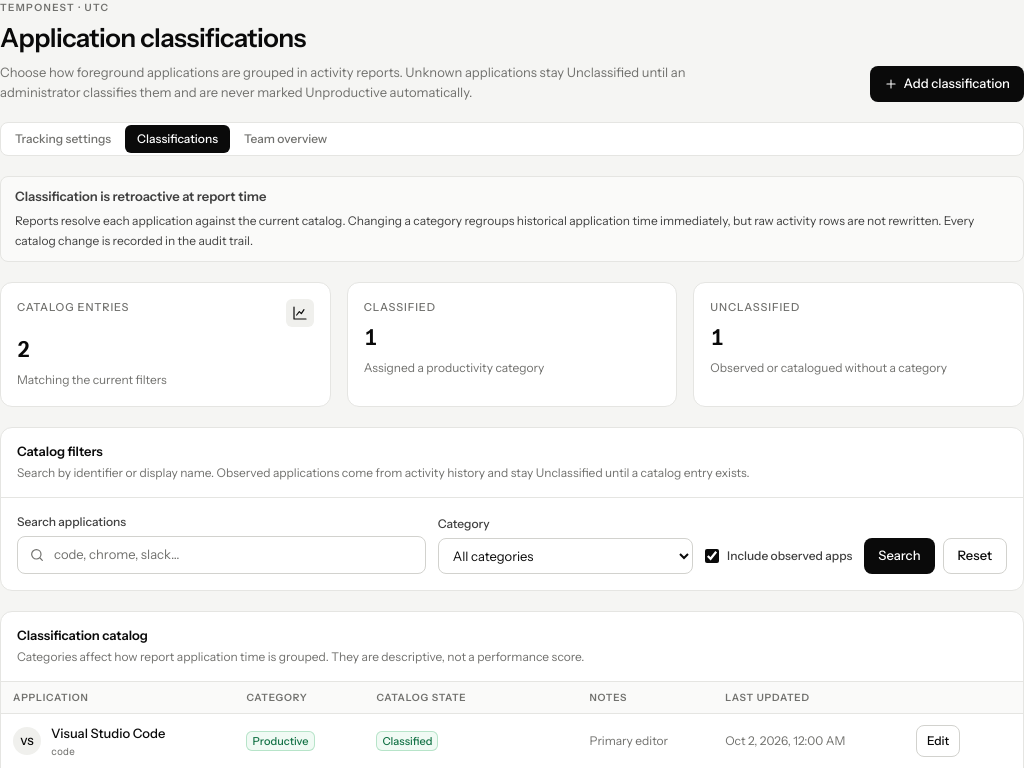
Test: ApplicationClassificationsView › creates a new classification through the API
Expected: the text "Visual Studio Code" is shown, top-left (51, 724), bottom-right (165, 744)
Click the button "Add classification" at (947, 84), box top-left (870, 66), bottom-right (1023, 102)
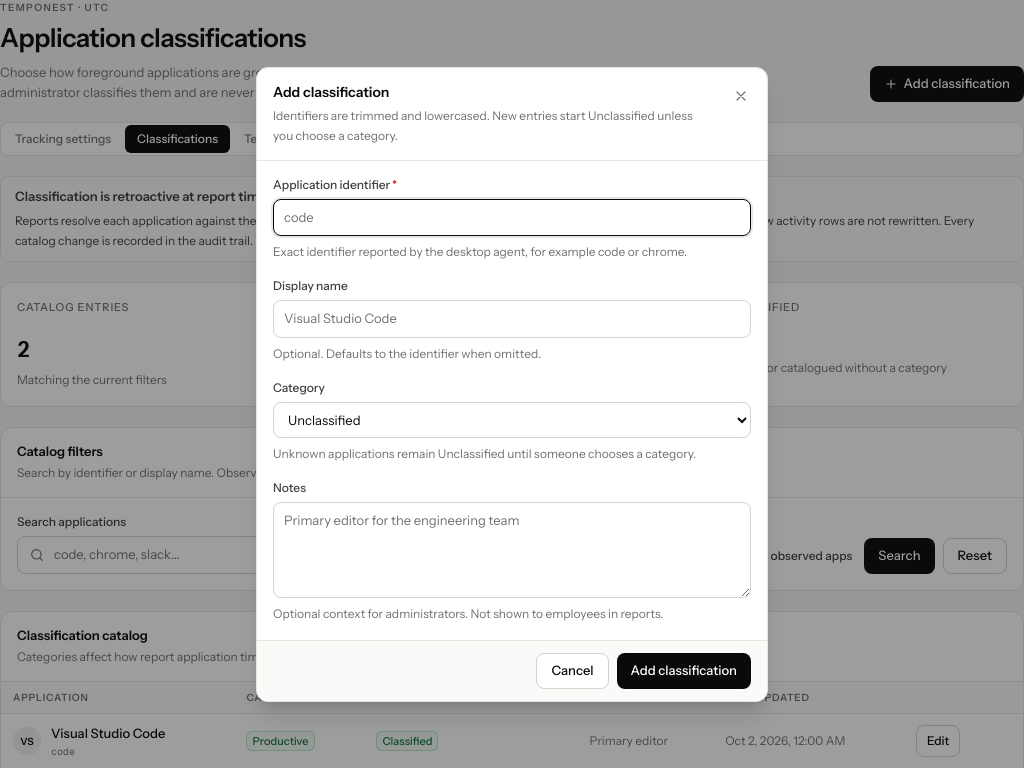
Type "slack" into the field labelled "Application identifier*" at (512, 217), box top-left (273, 198), bottom-right (751, 236)
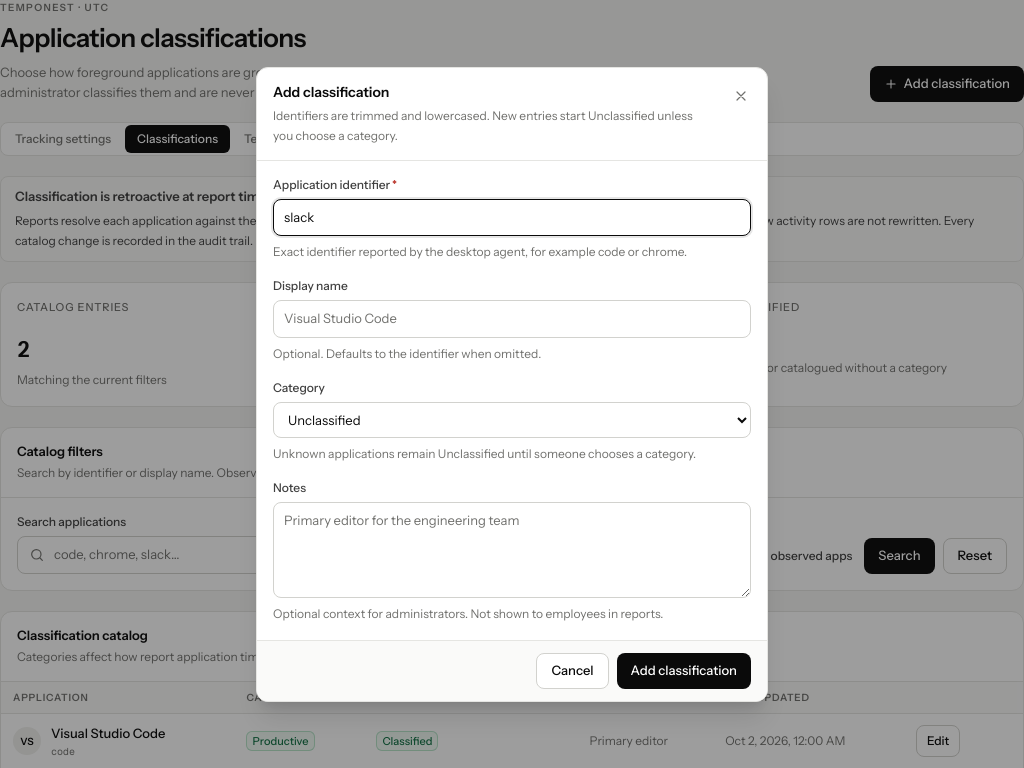
Type "Slack" into the field labelled "Display name" at (512, 319), box top-left (273, 300), bottom-right (751, 338)
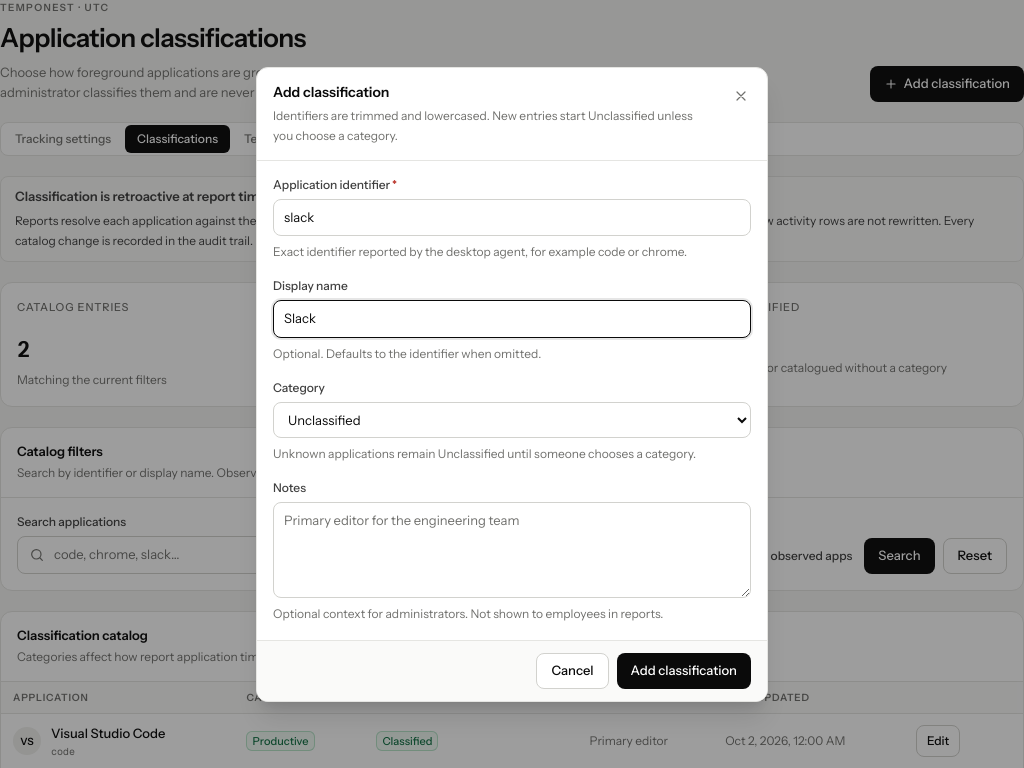
Select "Neutral" in the dropdown labelled "Category" at (512, 420), box top-left (273, 402), bottom-right (751, 438)
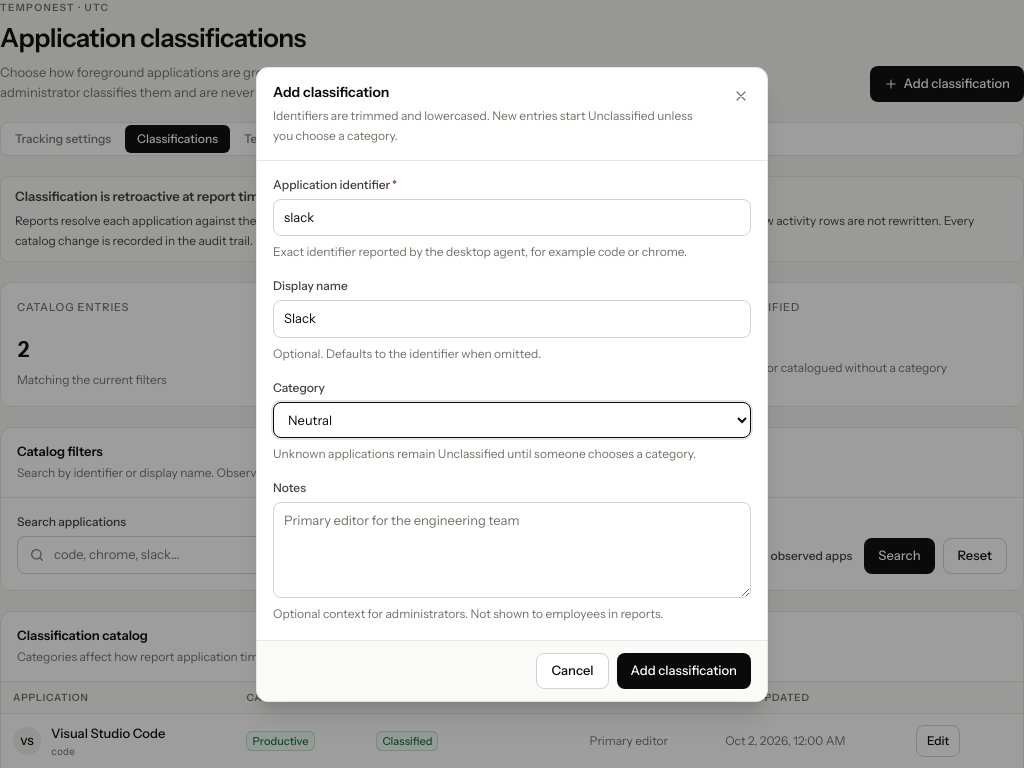
Type "Team chat" into the text box labelled "Notes" at (512, 550), box top-left (273, 502), bottom-right (751, 598)
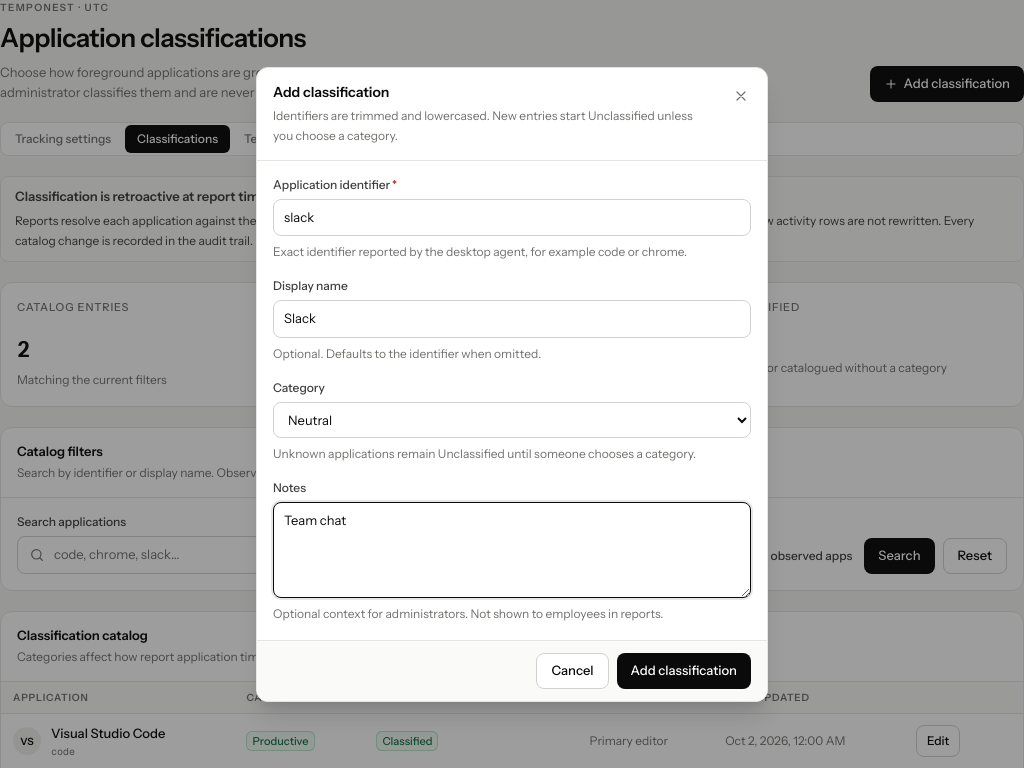
Click the button "Add classification" at (684, 670), box top-left (617, 652), bottom-right (751, 688)
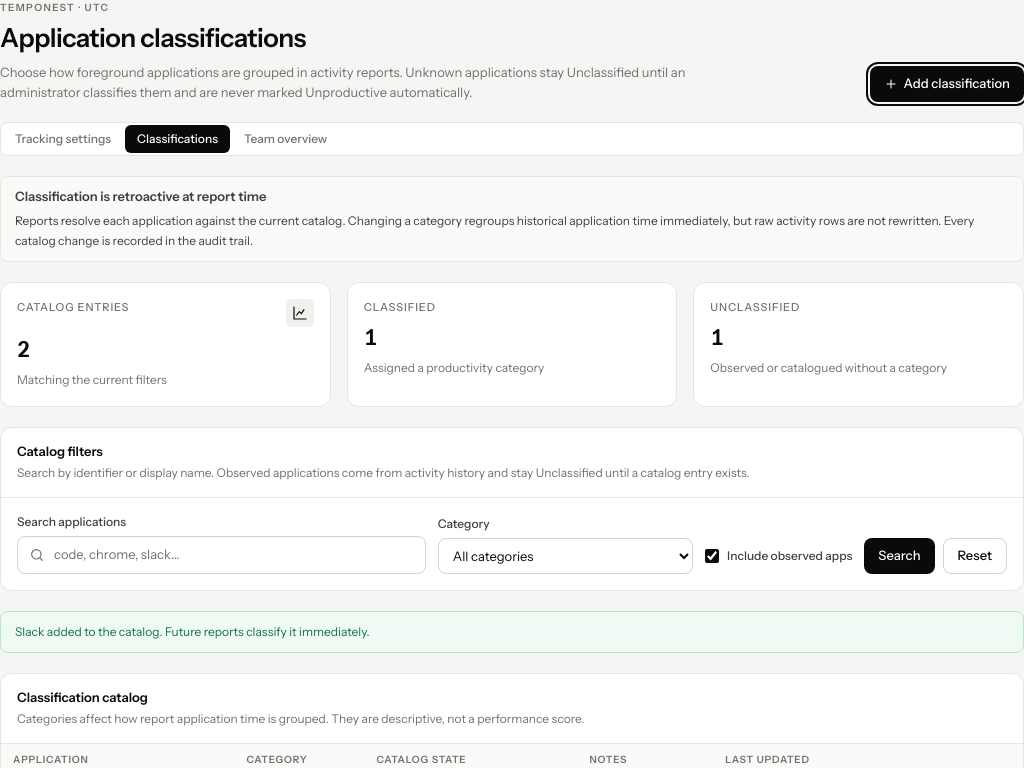
Expected: the text "Slack added to the catalog" is shown, top-left (15, 624), bottom-right (370, 638)
